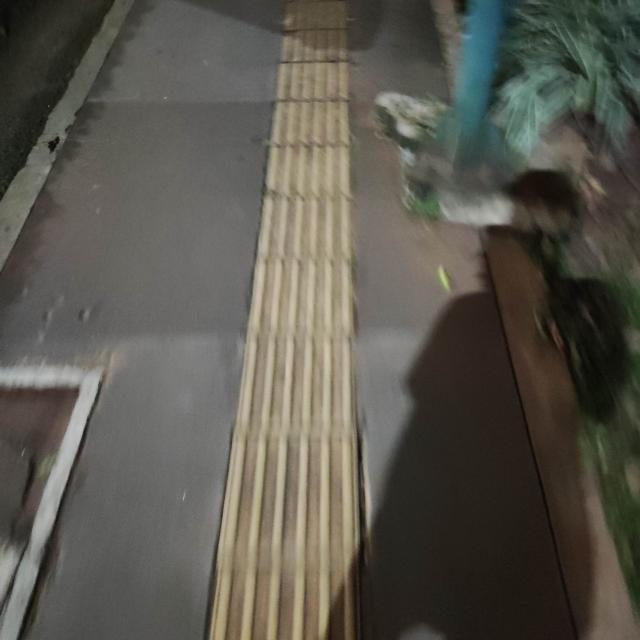lurus: (206, 46, 375, 640)
